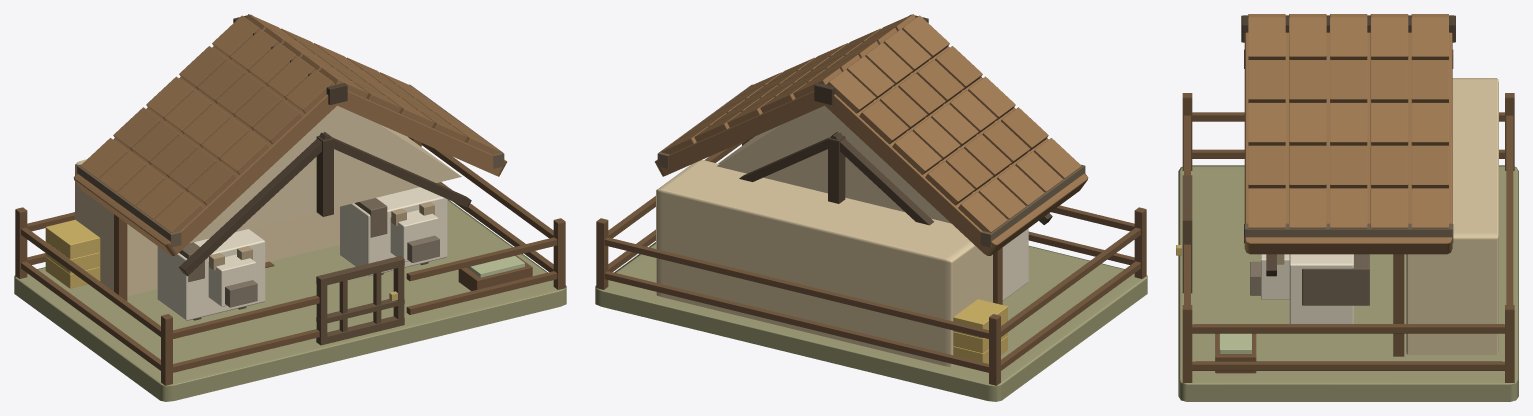
File: cowshed-0.glb
The picture shows the model from 3 angles, left to right: view 1: azimuth 30°, elevation 25°; view 2: azimuth 150°, elevation 25°; view 3: azimuth 270°, elevation 25°; orthographic projection. The views are drawn at different scales.
Visible parts, largest first — view 1: cowshed-0-0, cow-1, cow-0, door-hinge; view 2: cowshed-0-0, cow-0; view 3: cowshed-0-0, cow-1, door-hinge.
Boxes of the visible parts, <box> form: cowshed-0-0: <box>14,14,566,401</box>; cow-1: <box>340,187,447,276</box>; cow-0: <box>157,229,265,320</box>; door-hinge: <box>316,256,404,345</box>; cowshed-0-0: <box>595,14,1147,401</box>; cow-0: <box>1002,228,1028,300</box>; cowshed-0-0: <box>1178,14,1518,401</box>; cow-1: <box>1250,254,1369,323</box>; door-hinge: <box>1176,175,1192,293</box>.
Bounding box in the file's own units: 2.9 × 1.71 × 1.91.
